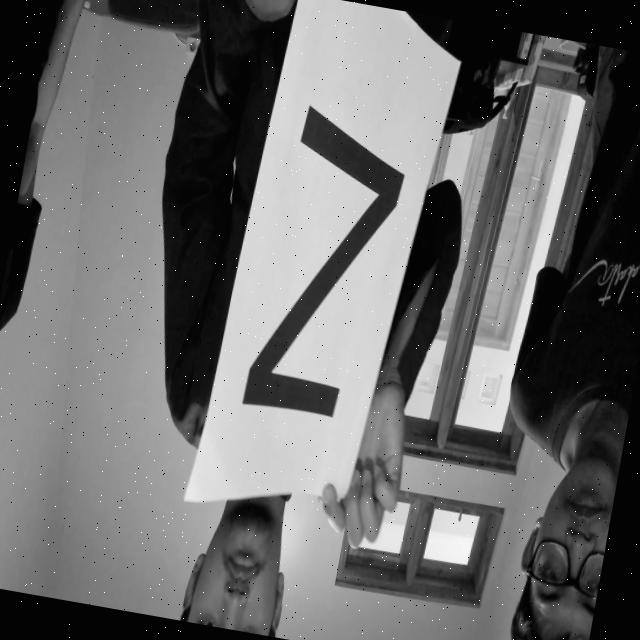z: (229, 89, 422, 442)
